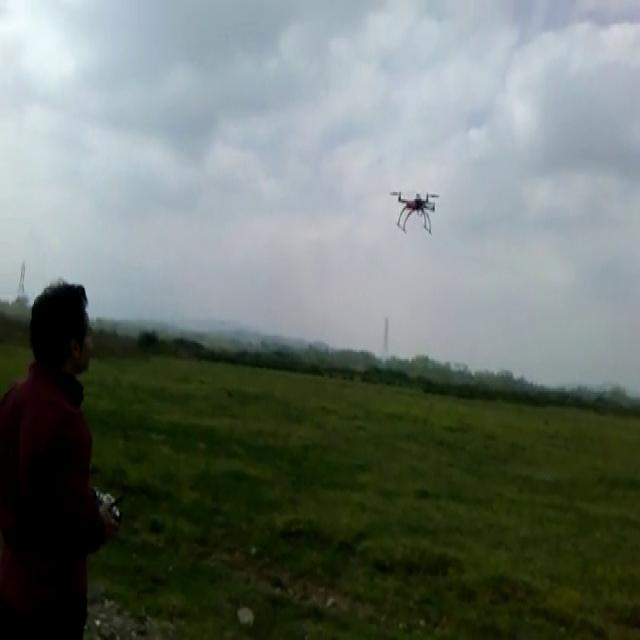drone: (387, 182, 440, 236)
